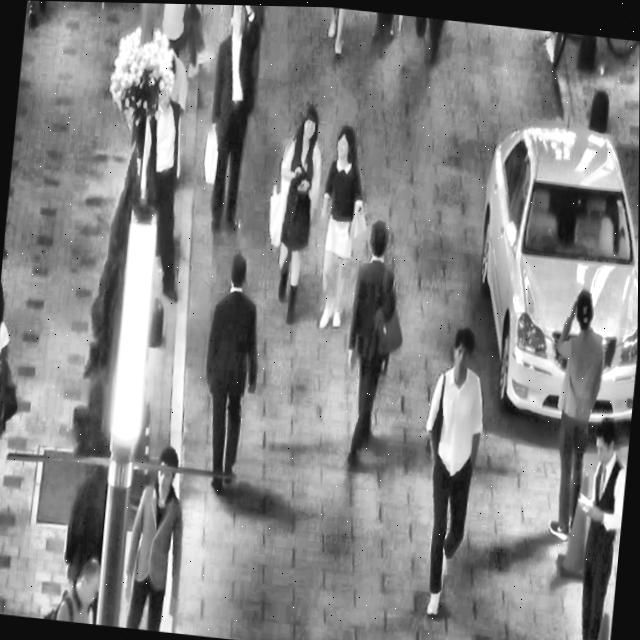light_vehicle: (458, 95, 639, 435)
